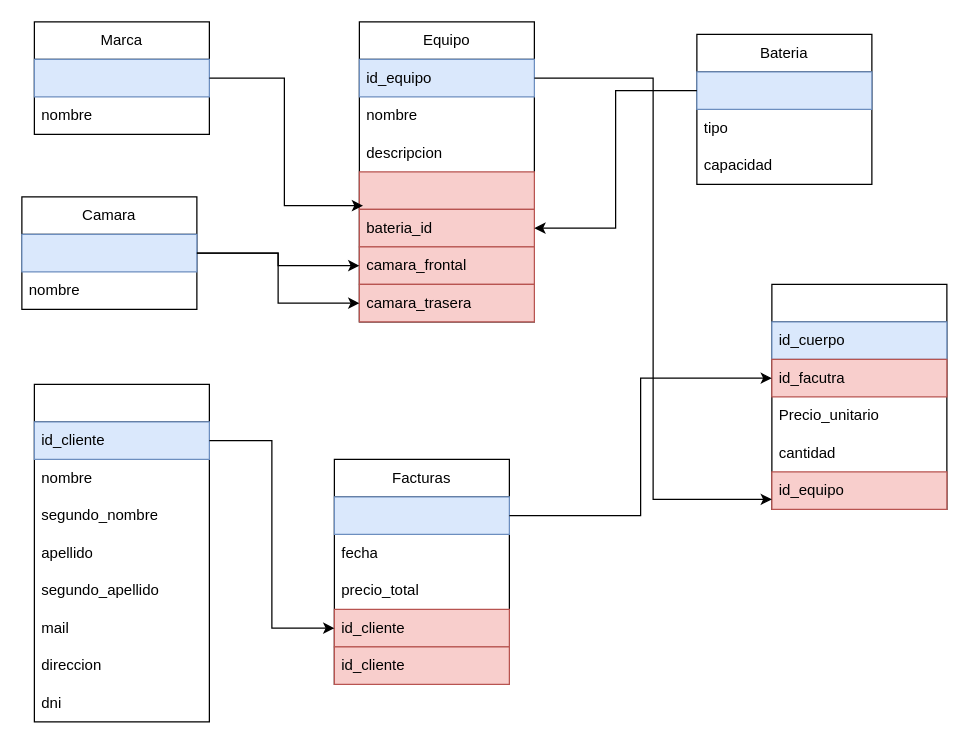
Image size: 969x744. Some labels were removed from this diagram. The shapes that lost their labels are listed below. From the top down, each one's box as (x1, y1, x2, y2) in pixels, then its label:
(33, 58, 209, 97): id_marca
(696, 71, 872, 109): id_bateria
(358, 171, 534, 209): marca_id
(21, 233, 197, 272): id_camara
(771, 283, 947, 509): Cuerpo_Factura
(333, 496, 509, 534): id_factura
(33, 383, 209, 722): Clientes
